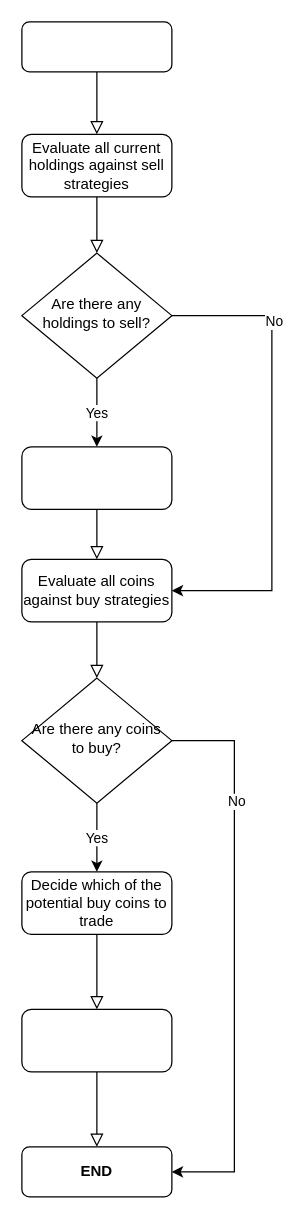
Image size: 304x1219. Some labels were removed from this diagram. The shapes that lost their labels are listed below. From the top down, each one's box as (x1, y1, x2, y2) in pixels, then its label:
(21, 21, 172, 72): Execute on a defined schedule
(21, 446, 172, 509): Execute sell trades
(21, 1008, 172, 1072): Execute buy trades
